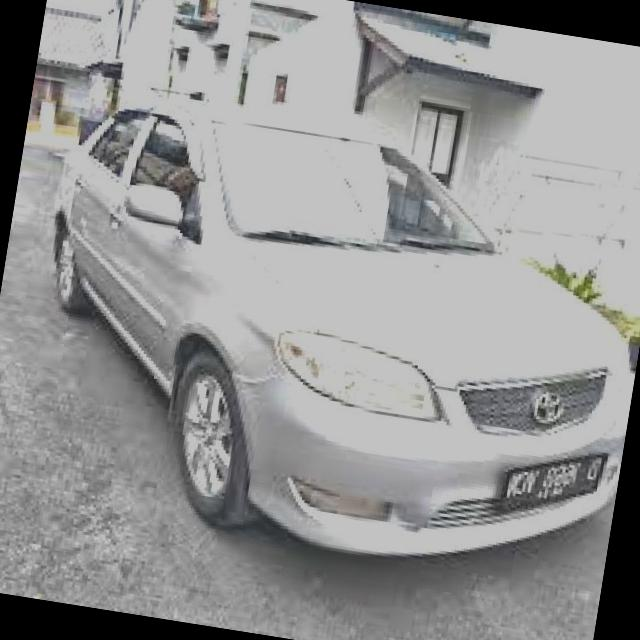ToyotaVios: (6, 67, 640, 593)
